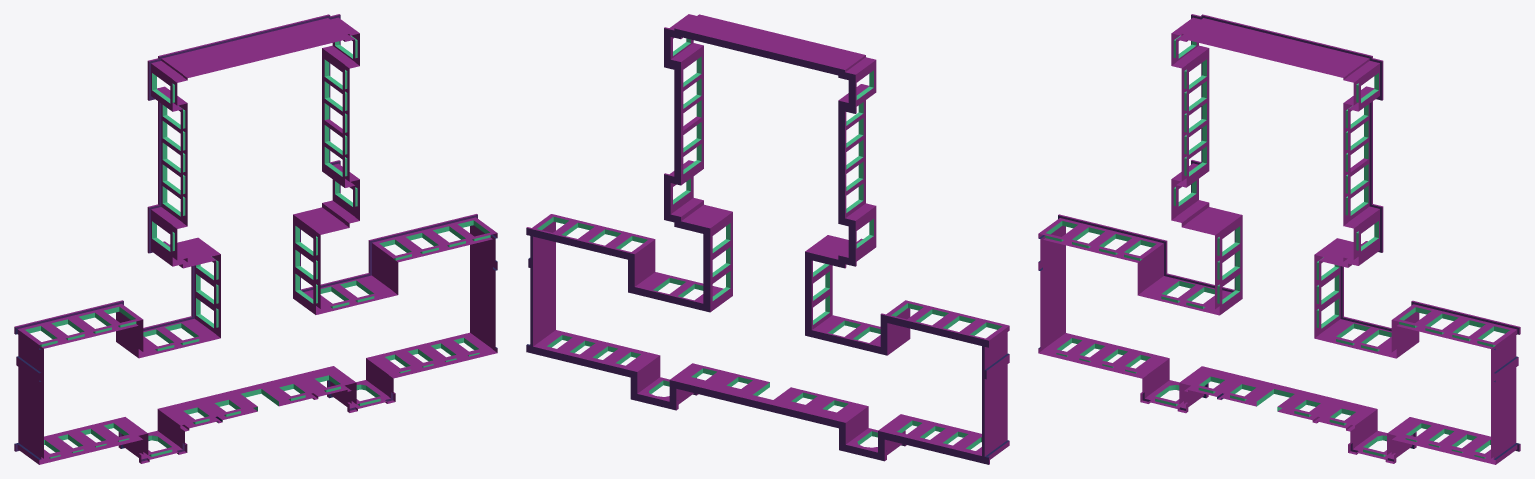
Rendered from Samochodówka Tier 1.fbx.
3 renders of one model, left to right at view 1: azimuth 30°, elevation 25°; view 2: azimuth 150°, elevation 25°; view 3: azimuth 330°, elevation 25°, orthographic.
Visible parts, largest first — view 1: samochodowka_cz2; view 2: samochodowka_cz2; view 3: samochodowka_cz2.
Part boxes in pixels (x1,y1,x2,y2): samochodowka_cz2: [14, 14, 497, 464]; samochodowka_cz2: [526, 14, 1009, 464]; samochodowka_cz2: [1038, 14, 1520, 464].
Bounding box in the file's own units: 4.09 × 3.23 × 0.3503.
